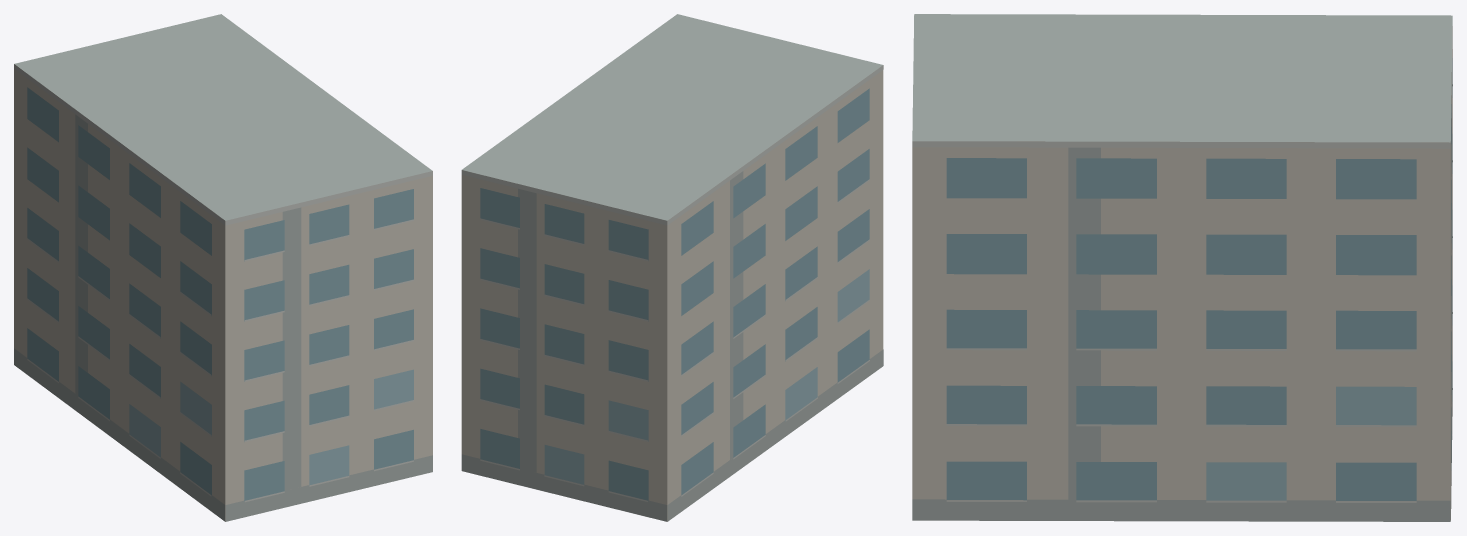
The model's file is residential-96ae0d24-4409-4904-baaa-61afe4ecf0b2.glb.
3 renders of one model, left to right at view 1: azimuth 30°, elevation 25°; view 2: azimuth 150°, elevation 25°; view 3: azimuth 270°, elevation 25°, orthographic. The views are drawn at different scales.
Visible parts, largest first — view 1: residential-96ae0d24-4409-4904-baaa-61afe4ecf0b2.tmp; view 2: residential-96ae0d24-4409-4904-baaa-61afe4ecf0b2.tmp; view 3: residential-96ae0d24-4409-4904-baaa-61afe4ecf0b2.tmp.
Part boxes in pixels (<box>): residential-96ae0d24-4409-4904-baaa-61afe4ecf0b2.tmp: <box>14,14,432,521</box>; residential-96ae0d24-4409-4904-baaa-61afe4ecf0b2.tmp: <box>461,14,883,521</box>; residential-96ae0d24-4409-4904-baaa-61afe4ecf0b2.tmp: <box>912,14,1452,521</box>.
Bounding box in the file's own units: 11.08 × 15.25 × 19.7.
